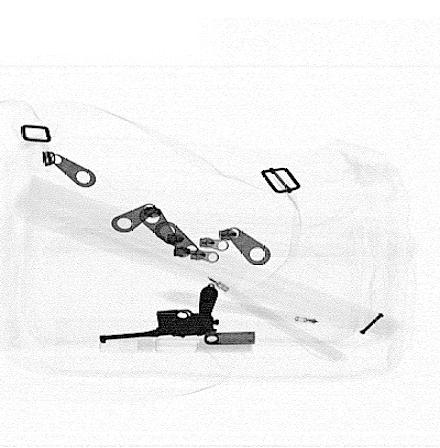Gun: (97, 283, 223, 345)
